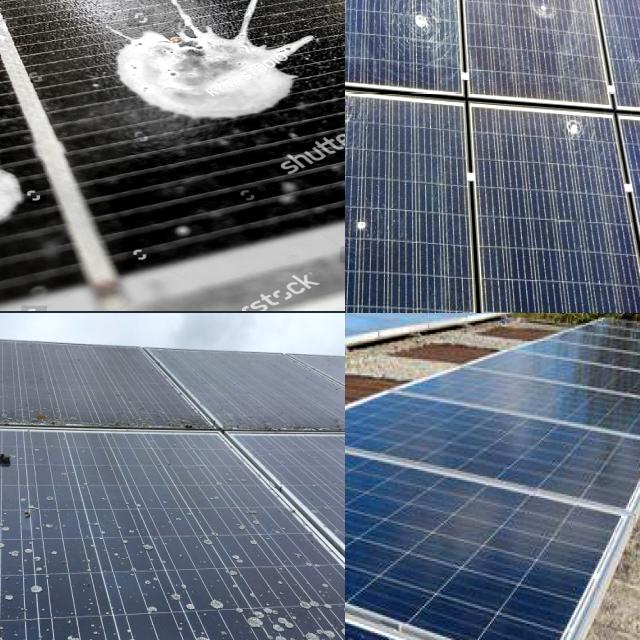bird: (52, 0, 345, 124), (0, 136, 65, 248), (242, 577, 345, 640), (0, 504, 52, 606), (57, 0, 241, 26), (0, 513, 40, 589), (116, 516, 154, 575), (121, 615, 191, 640), (0, 0, 71, 23), (207, 578, 234, 630), (0, 431, 25, 474)
crack: (345, 386, 640, 640), (345, 352, 640, 547), (391, 350, 640, 459)
hotspot: (398, 0, 453, 55), (345, 192, 385, 251), (558, 112, 604, 160), (535, 0, 575, 47), (345, 81, 365, 140)
